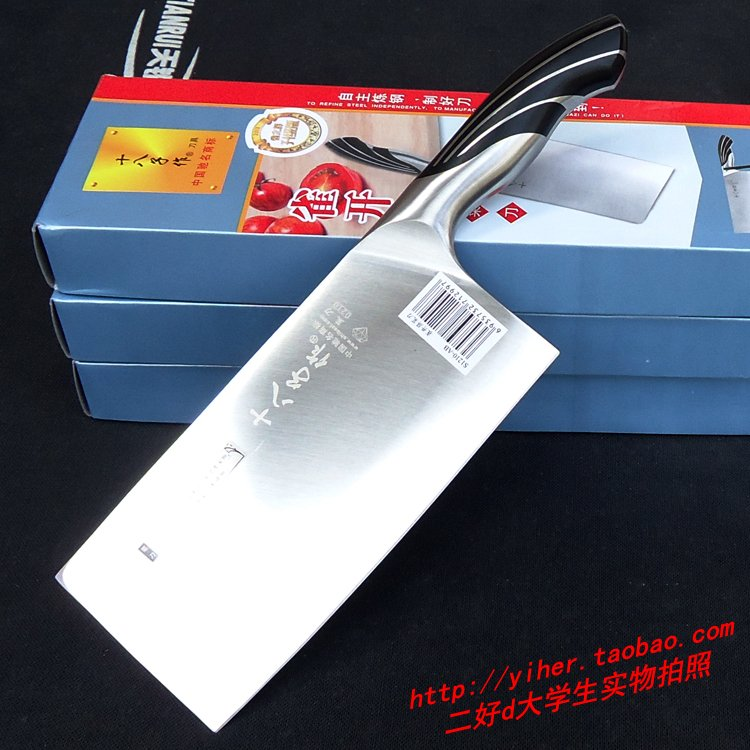knief: (43, 27, 672, 715)
